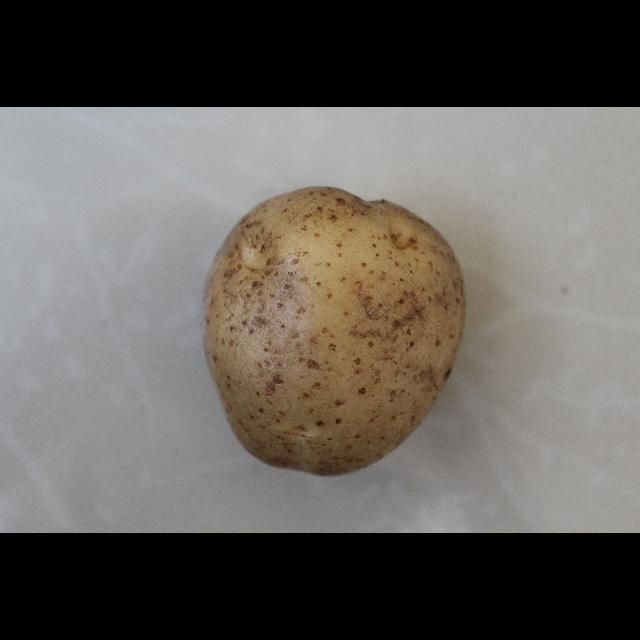Diseased-fungal potato: (198, 178, 467, 484)
